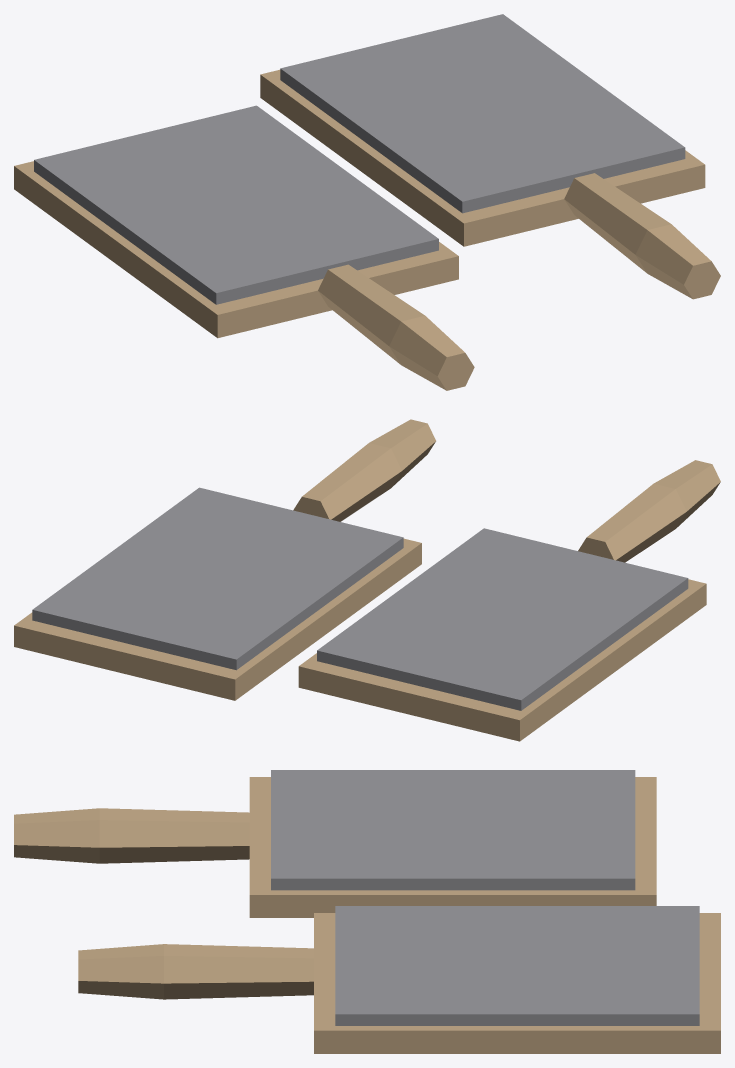
Rendered from prop-hand-card-pair.fbx.
The picture shows the model from 3 angles, top to bottom: view 1: azimuth 30°, elevation 25°; view 2: azimuth 150°, elevation 25°; view 3: azimuth 270°, elevation 25°; orthographic projection. The views are drawn at different scales.
Visible parts, largest first — view 1: prop-hand-card-pair; view 2: prop-hand-card-pair; view 3: prop-hand-card-pair.
Part boxes in pixels (x1,y1,x2,y2): prop-hand-card-pair: (14, 14, 720, 390); prop-hand-card-pair: (14, 419, 720, 741); prop-hand-card-pair: (14, 770, 720, 1053).
Size of the model in its own units: 28 by 2.33 by 33.
